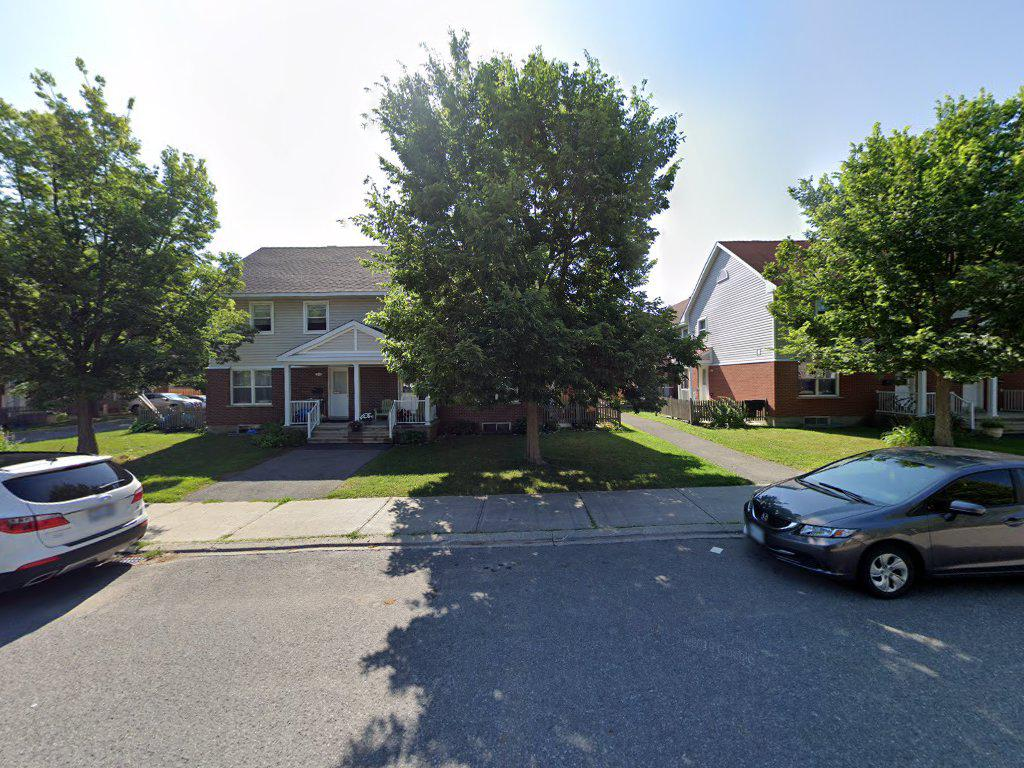trunk: (522, 391, 546, 472)
